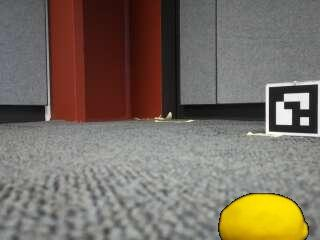lemon: (218, 194, 307, 240)
